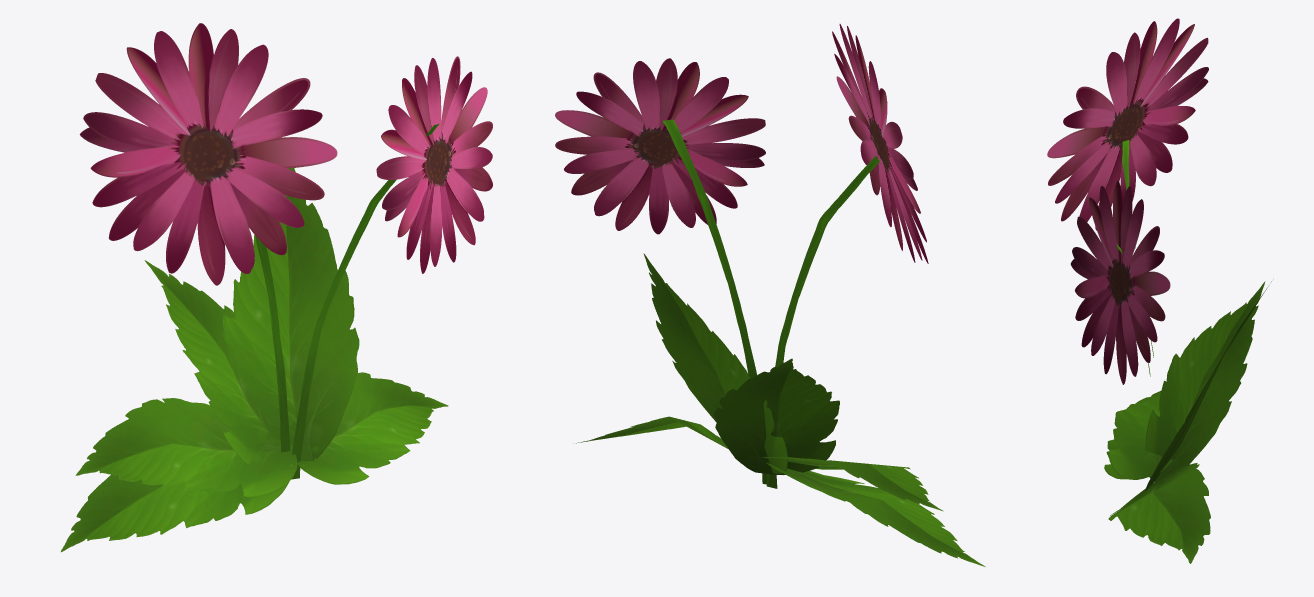
Rendered from Flowers.fbx.
The picture shows the model from 3 angles, left to right: view 1: azimuth 30°, elevation 25°; view 2: azimuth 150°, elevation 25°; view 3: azimuth 270°, elevation 25°; orthographic projection. The views are drawn at different scales.
Visible parts, largest first — view 1: polySurface120; view 2: polySurface120; view 3: polySurface120.
Part boxes in pixels (x1,y1,x2,y2): polySurface120: [61, 23, 492, 551]; polySurface120: [555, 24, 985, 566]; polySurface120: [1047, 18, 1271, 563].
Size of the model in its own units: 15.52 by 17.37 by 8.5.
